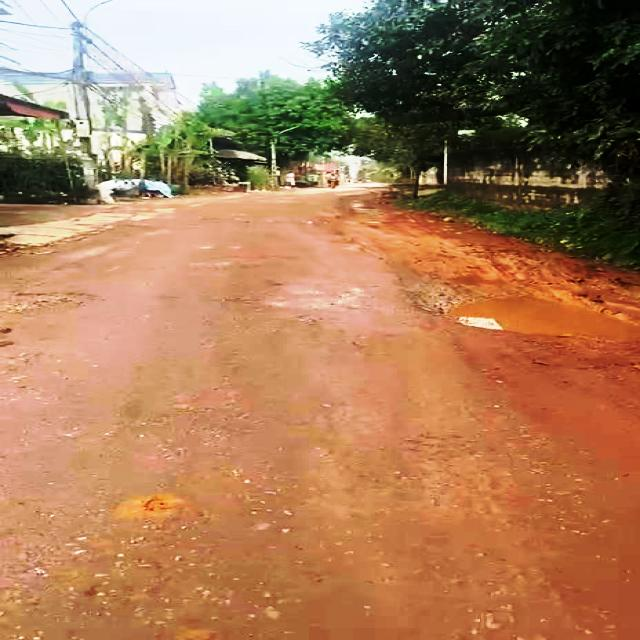pothole: (434, 294, 640, 340), (0, 287, 105, 320)
